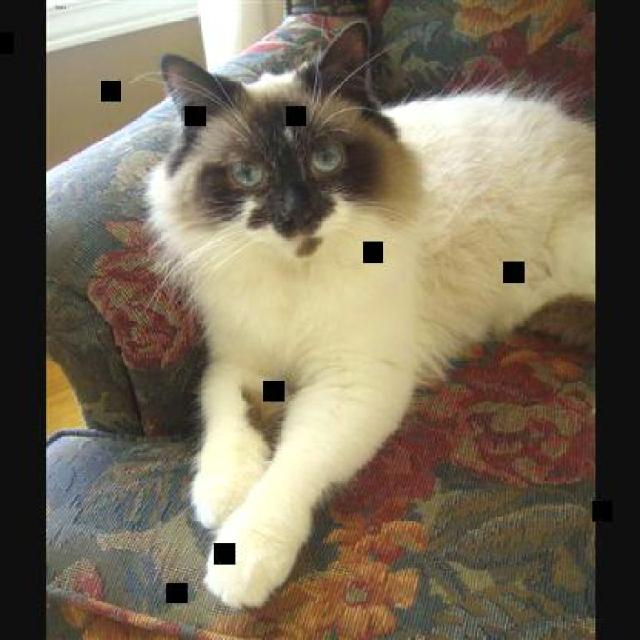unauthorized: (140, 18, 595, 610)
